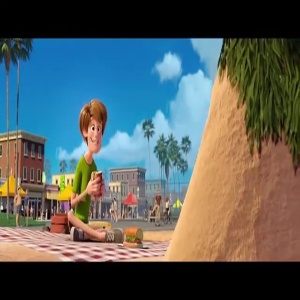Shagy: (77, 99, 114, 154)
